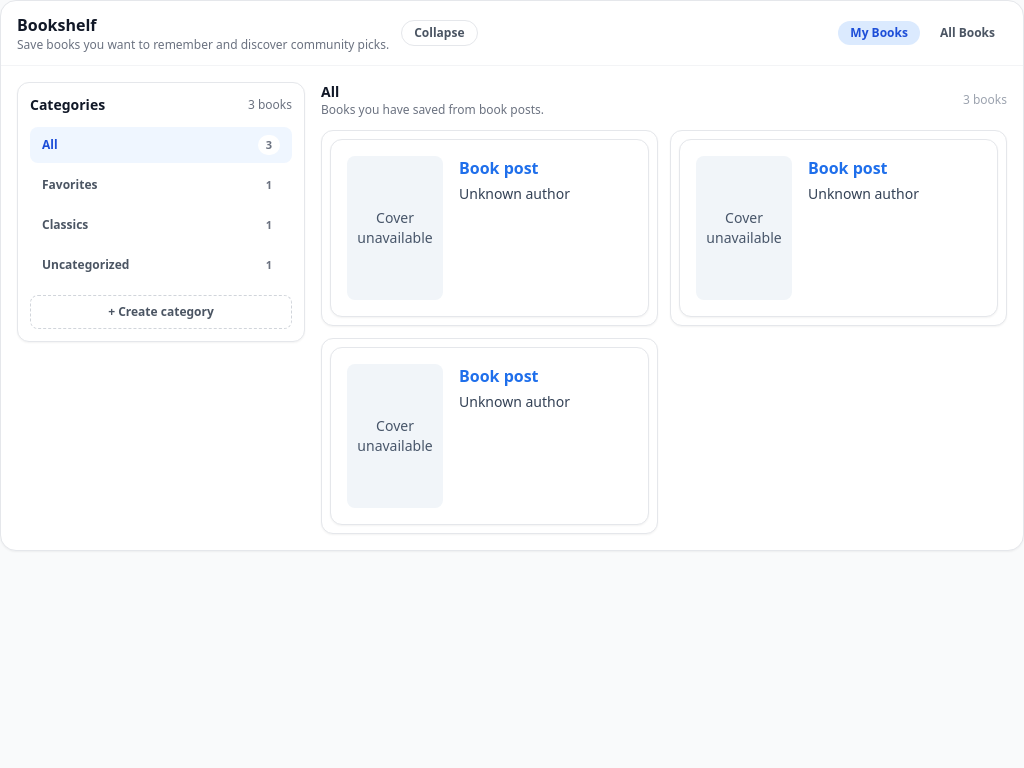
it: Bookshelf › loads more items in All Books pagination
The image size is (1024, 768).
Step 1. Click the tab with test id "bookshelf-tab-all" → coordinates (968, 33), box top-left (928, 21), bottom-right (1007, 45)
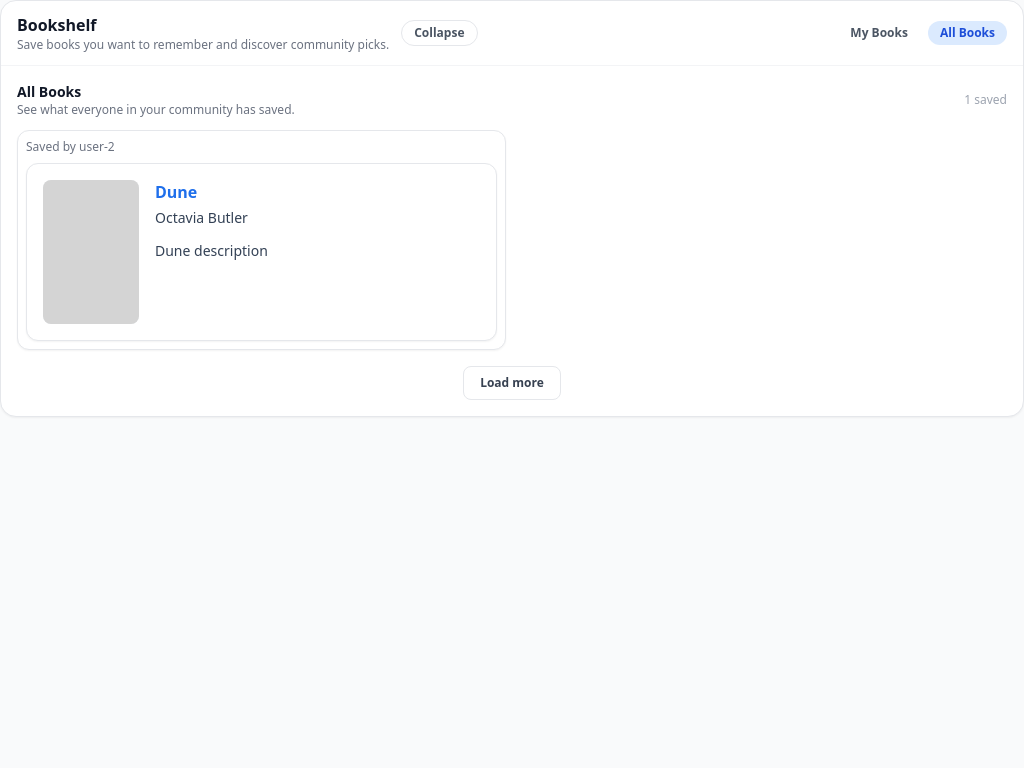
Result: the element with test id "bookshelf-all-item-post-10" is shown at top-left (17, 130), bottom-right (506, 350)
Step 2. Click the button with test id "bookshelf-all-load-more" → coordinates (512, 383), box top-left (463, 366), bottom-right (561, 400)
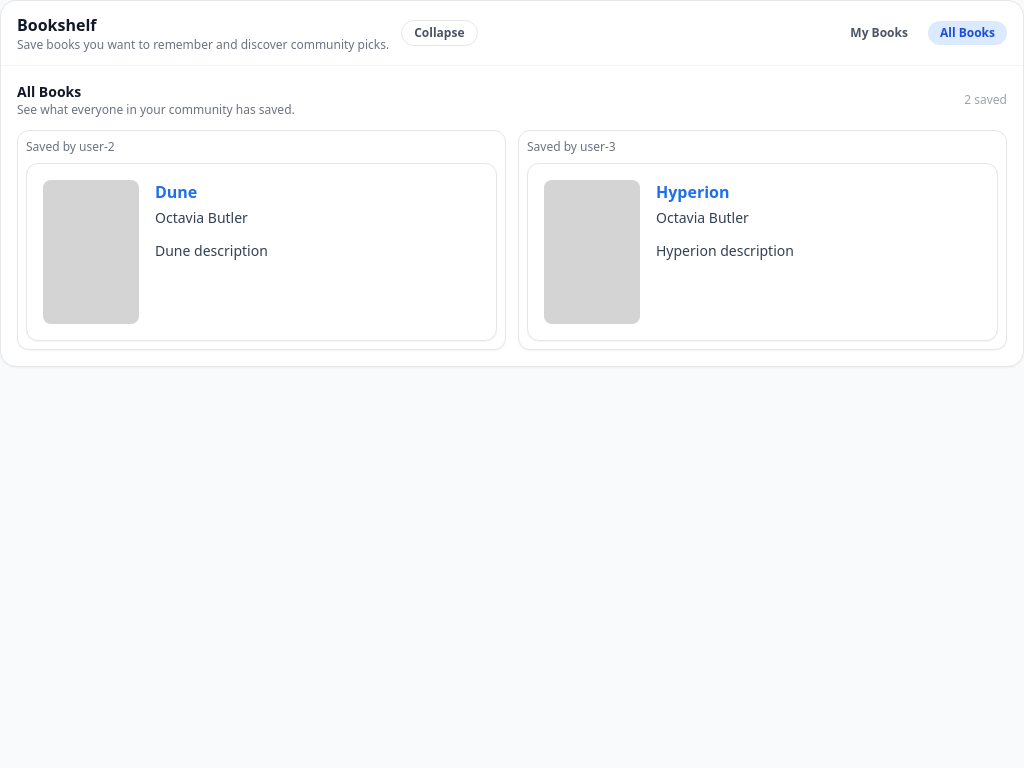
Result: the element with test id "bookshelf-all-item-post-11" is shown at top-left (518, 130), bottom-right (1007, 350)
